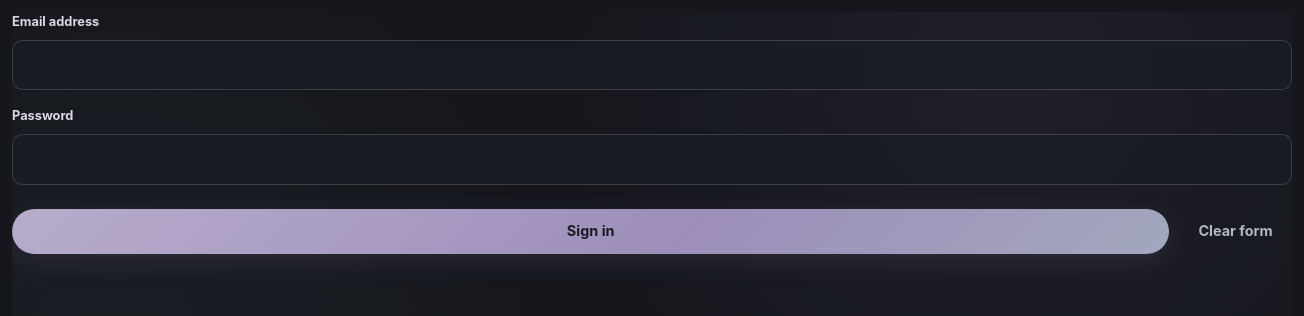
Test: LoginForm › rejects an invalid email address
Type "invalid-email" into the field labelled "Email address" at (652, 65), box [12, 40, 1292, 90]
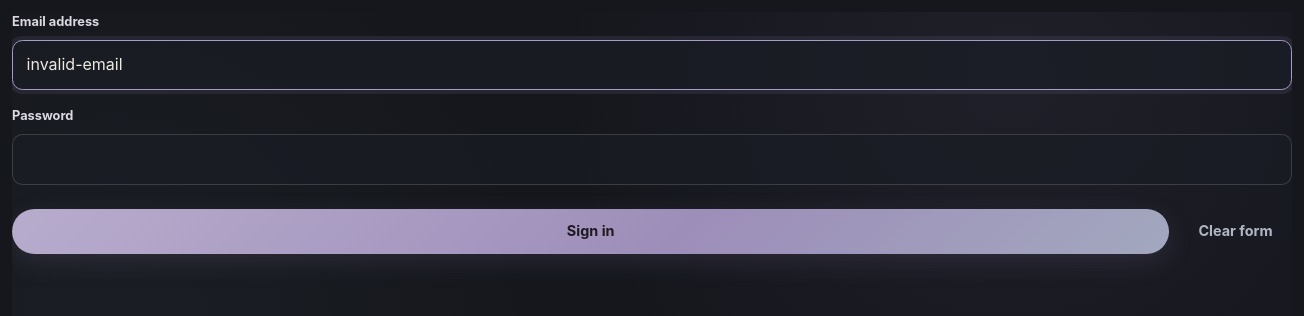
Type "password" into the password field labelled "Password" at (652, 159), box [12, 134, 1292, 184]
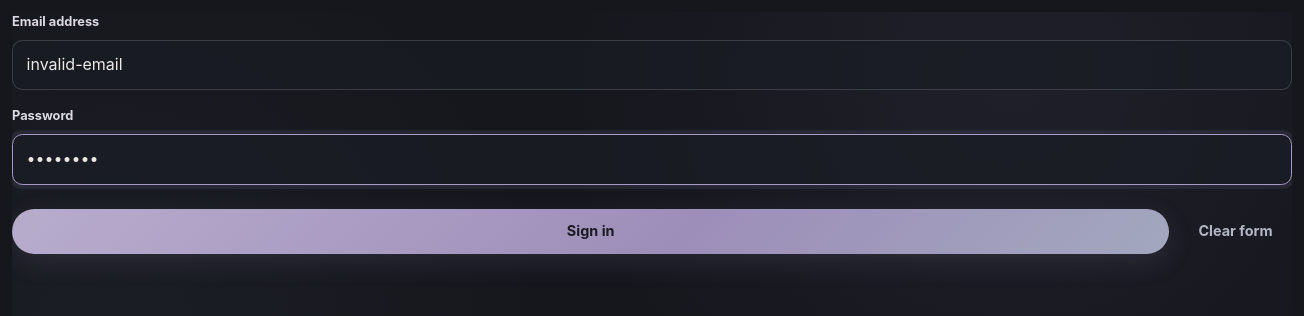
Click the button "Sign in" at (591, 231), box [12, 209, 1169, 254]
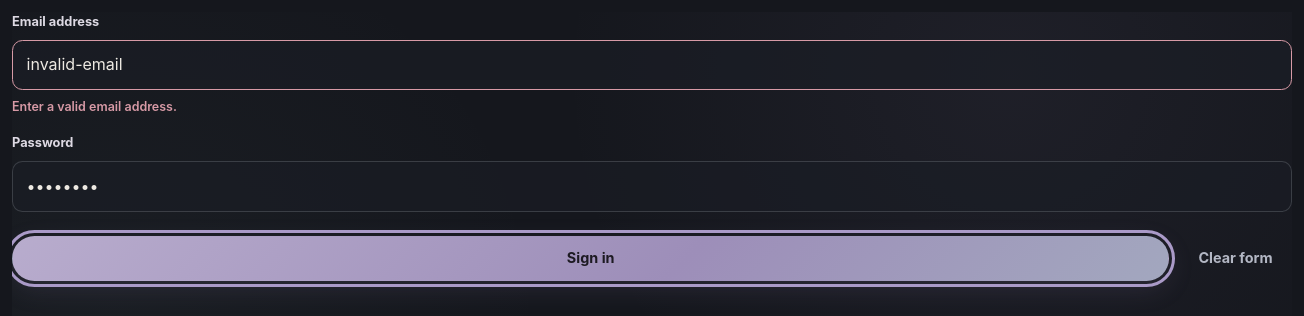
Result: the text "Enter a valid email address." is shown at [12, 100, 177, 114]
